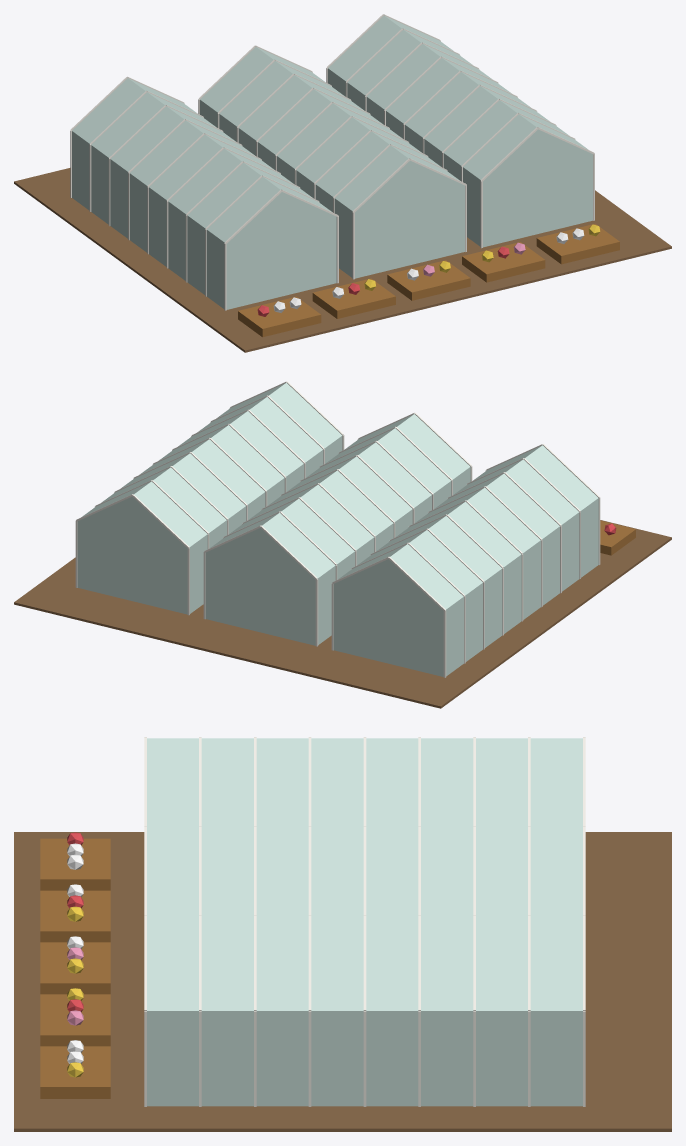
File: Sanayi_sera_1_Hafif.fbx
3 views of the same model, one above another, from view 1: azimuth 30°, elevation 25°; view 2: azimuth 150°, elevation 25°; view 3: azimuth 270°, elevation 25° (orthographic). The views are drawn at different scales.
Visible parts, largest first — view 1: Sanayi_sera_1_Hafif; view 2: Sanayi_sera_1_Hafif; view 3: Sanayi_sera_1_Hafif.
Part boxes in pixels (x1=…): Sanayi_sera_1_Hafif: x1=14, y1=14, x2=671, y2=352; Sanayi_sera_1_Hafif: x1=14, y1=381, x2=671, y2=708; Sanayi_sera_1_Hafif: x1=14, y1=737, x2=671, y2=1131.
Size of the model in its own units: 16 by 3.9 by 15.
